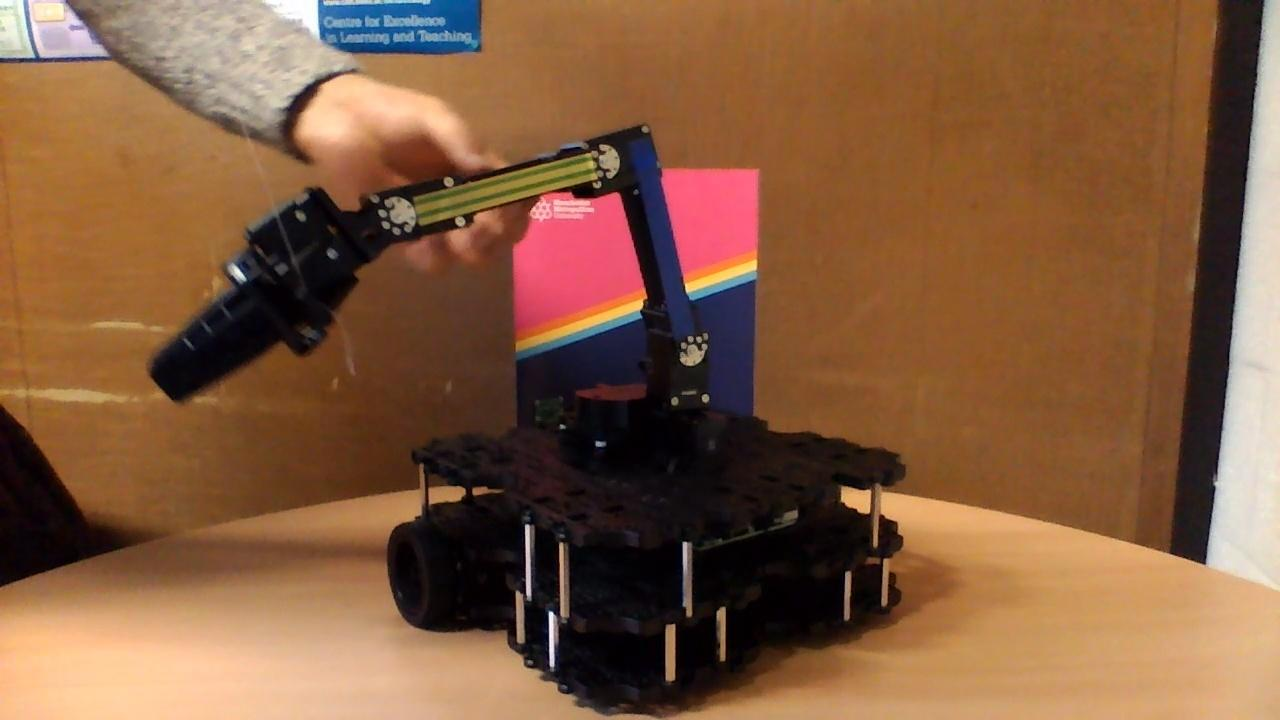Arm: (594, 120, 715, 373)
Hand: (146, 181, 415, 409)
Wrist: (364, 128, 628, 245)
base: (382, 377, 909, 717)
